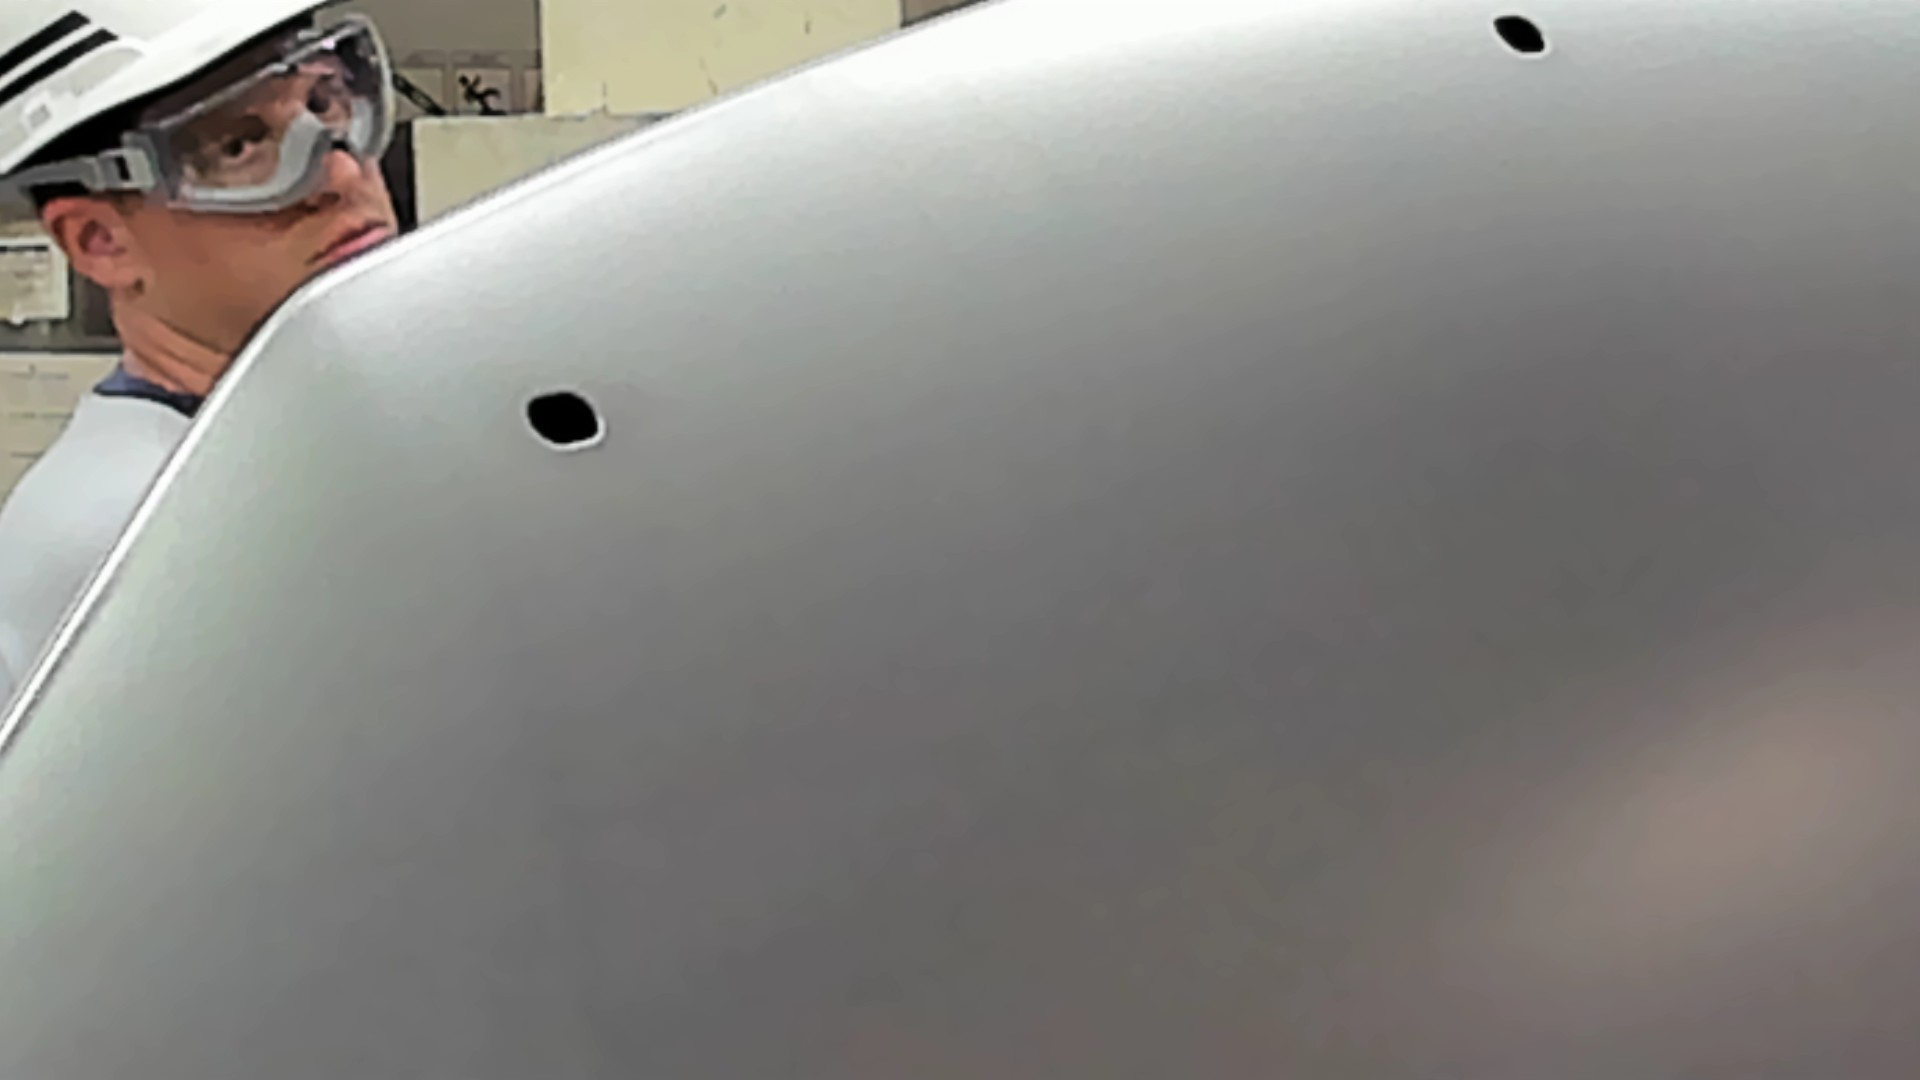amorfo: (510, 386, 615, 459), (1480, 7, 1563, 70)
capo: (728, 175, 1920, 1080)
